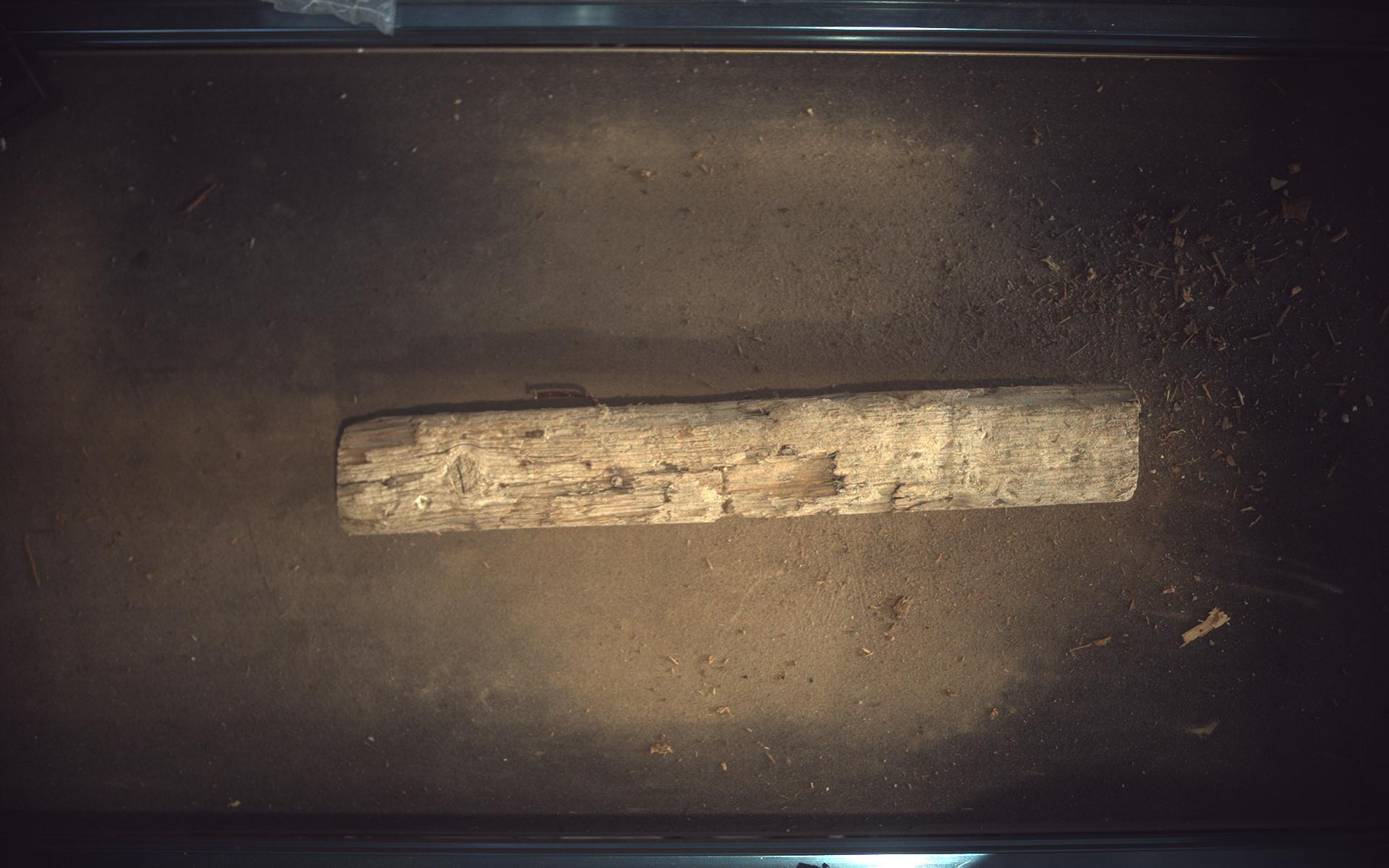wood: (336, 386, 1142, 535)
